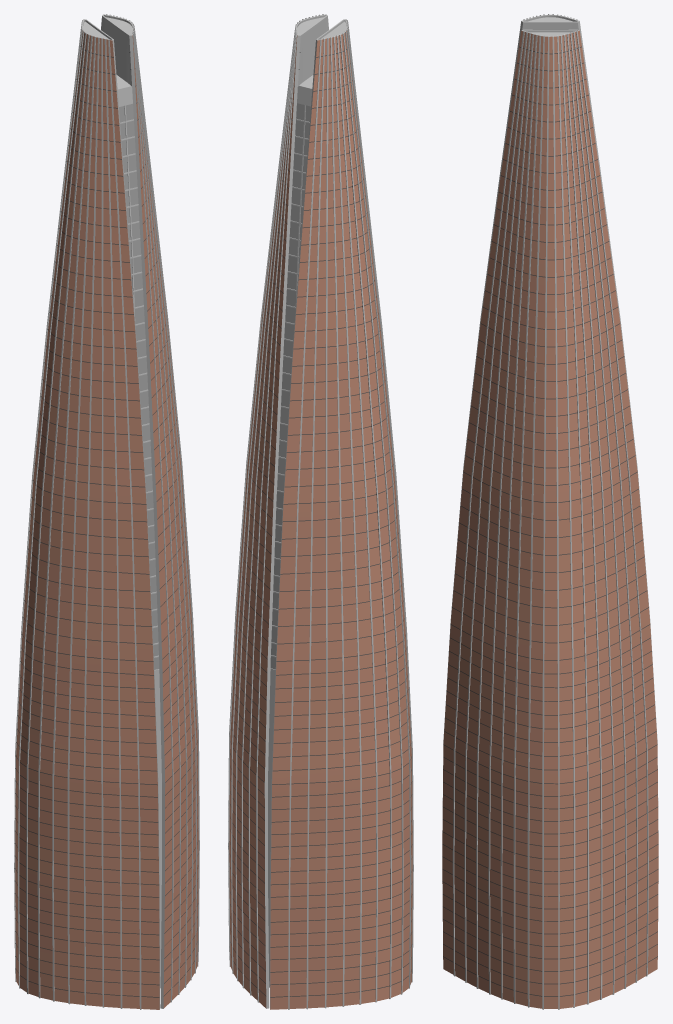
The model's file is building--detailed-2.obj.
3 renders of one model, left to right at view 1: azimuth 30°, elevation 25°; view 2: azimuth 150°, elevation 25°; view 3: azimuth 270°, elevation 25°, orthographic.
Parts seen in each view (by area): view 1: Sky_4_, Sky_4_.001; view 2: Sky_4_, Sky_4_.001; view 3: Sky_4_.
Part boxes in pixels (left/top/right/bottom): Sky_4_: left=14, top=14, right=199, bottom=1009; Sky_4_.001: left=116, top=75, right=161, bottom=988; Sky_4_: left=228, top=14, right=413, bottom=1009; Sky_4_.001: left=268, top=75, right=313, bottom=987; Sky_4_: left=442, top=14, right=658, bottom=1009.
Bounding box in the file's own units: 1.17 × 6.16 × 1.28.
